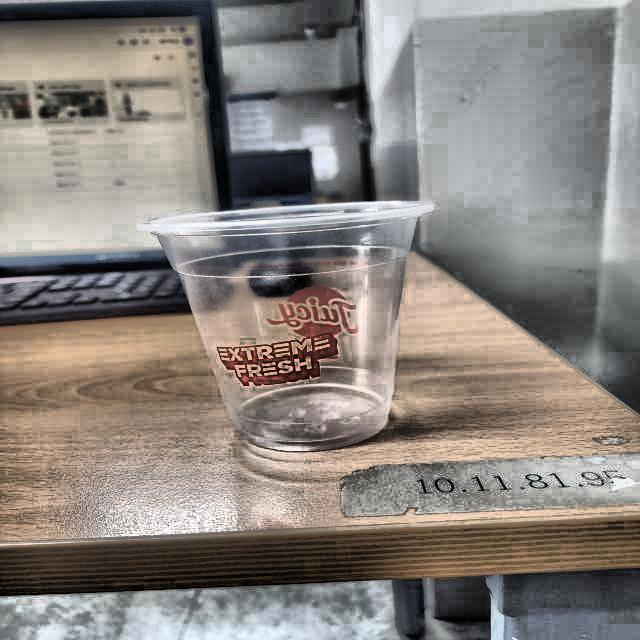plastic cup: (134, 198, 436, 451)
